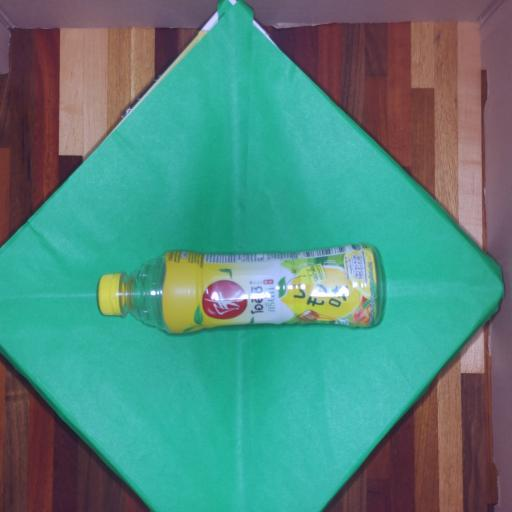bottle: (90, 230, 403, 346)
